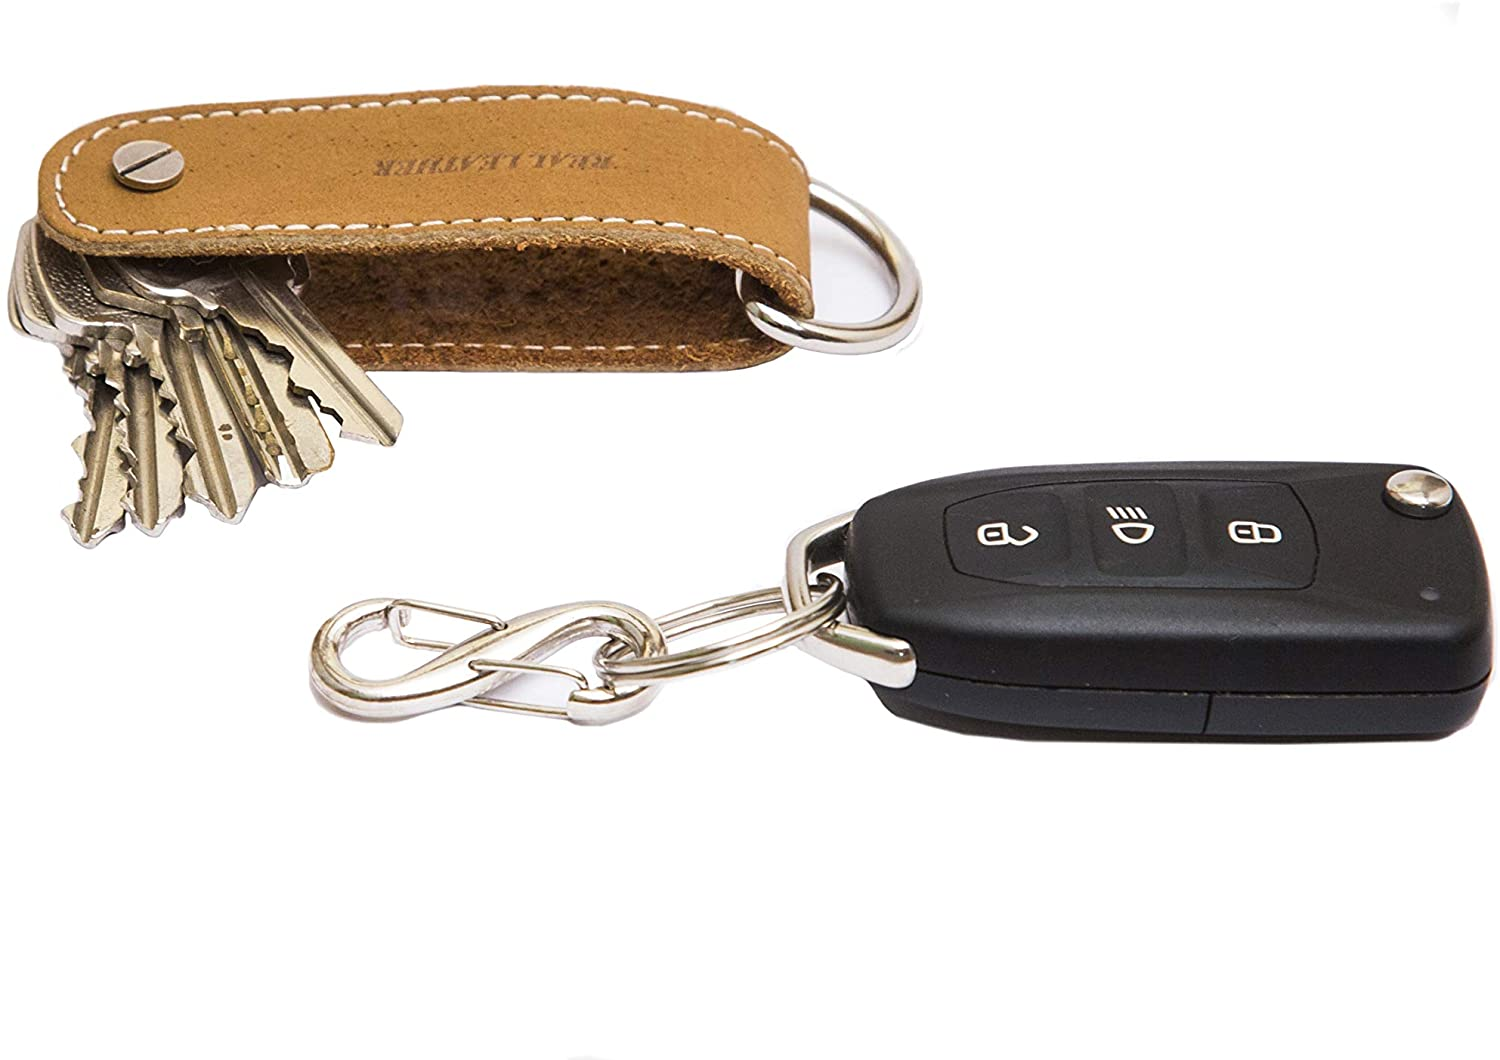key: (10, 197, 403, 550)
